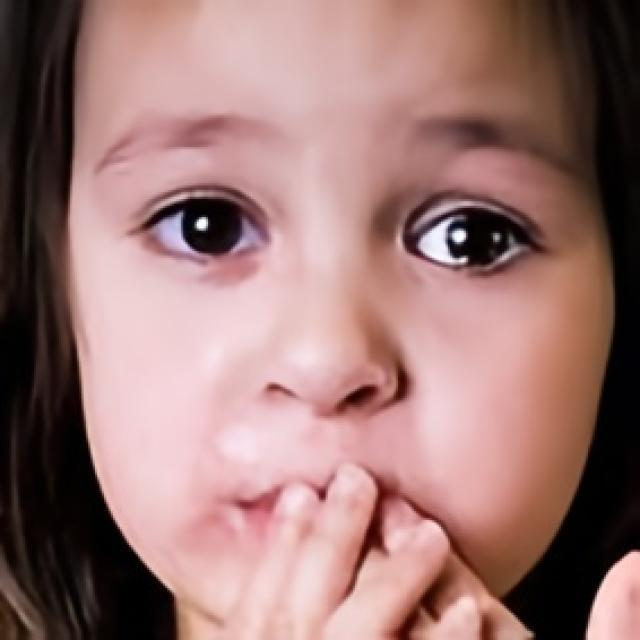sad: (66, 0, 616, 636)
